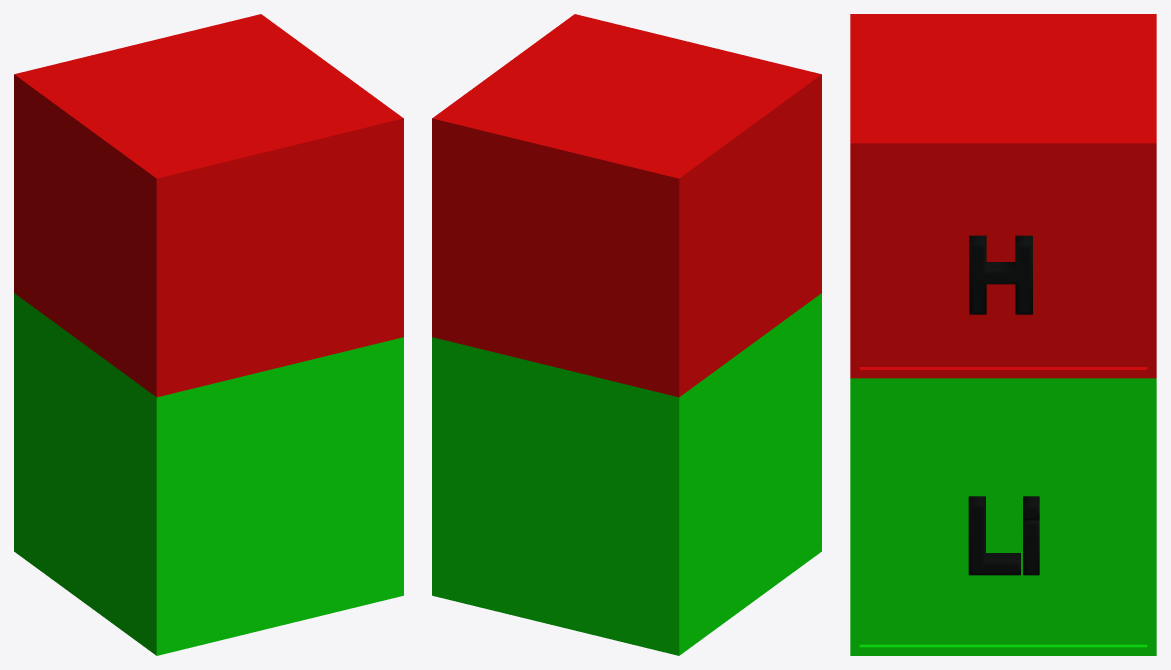
Rendered from Blocks.fbx.
The picture shows the model from 3 angles, left to right: view 1: azimuth 30°, elevation 25°; view 2: azimuth 150°, elevation 25°; view 3: azimuth 270°, elevation 25°; orthographic projection. The views are drawn at different scales.
Parts seen in each view (by area): view 1: Cube; view 2: Cube; view 3: Cube, Text.001, Text.
Part boxes in pixels (<box>): Cube: <box>14,14,403,655</box>; Cube: <box>432,14,821,655</box>; Cube: <box>850,14,1156,655</box>; Text.001: <box>968,496,1039,575</box>; Text: <box>969,235,1032,314</box>.
Bounding box in the file's own units: 239 × 419 × 227.
